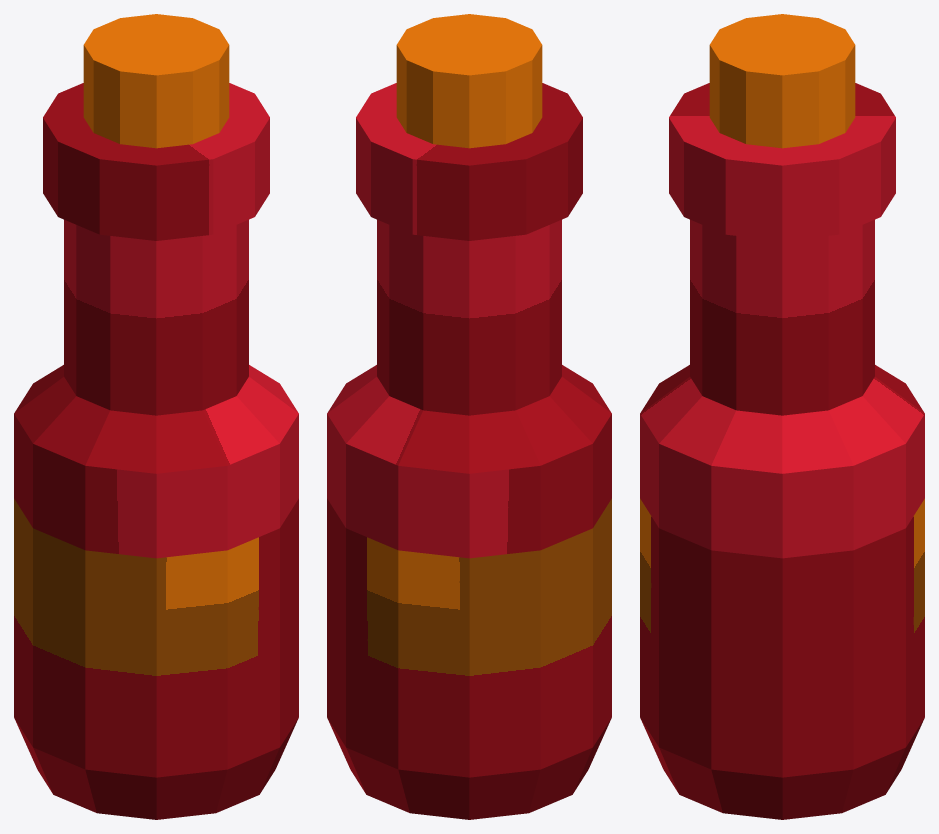
Rendered from bottle_616x11.gltf.
3 views of the same model, side by side, from view 1: azimuth 30°, elevation 25°; view 2: azimuth 150°, elevation 25°; view 3: azimuth 270°, elevation 25° (orthographic).
Visible parts, largest first — view 1: bottle_616x11; view 2: bottle_616x11; view 3: bottle_616x11.
Part boxes in pixels (bbox=[...]): bottle_616x11: bbox=[14, 14, 298, 819]; bottle_616x11: bbox=[327, 14, 611, 819]; bottle_616x11: bbox=[640, 14, 924, 819].
Size of the model in its own units: 0.372 by 1.04 by 0.372.
Materials: 1 (1 with a texture image).
